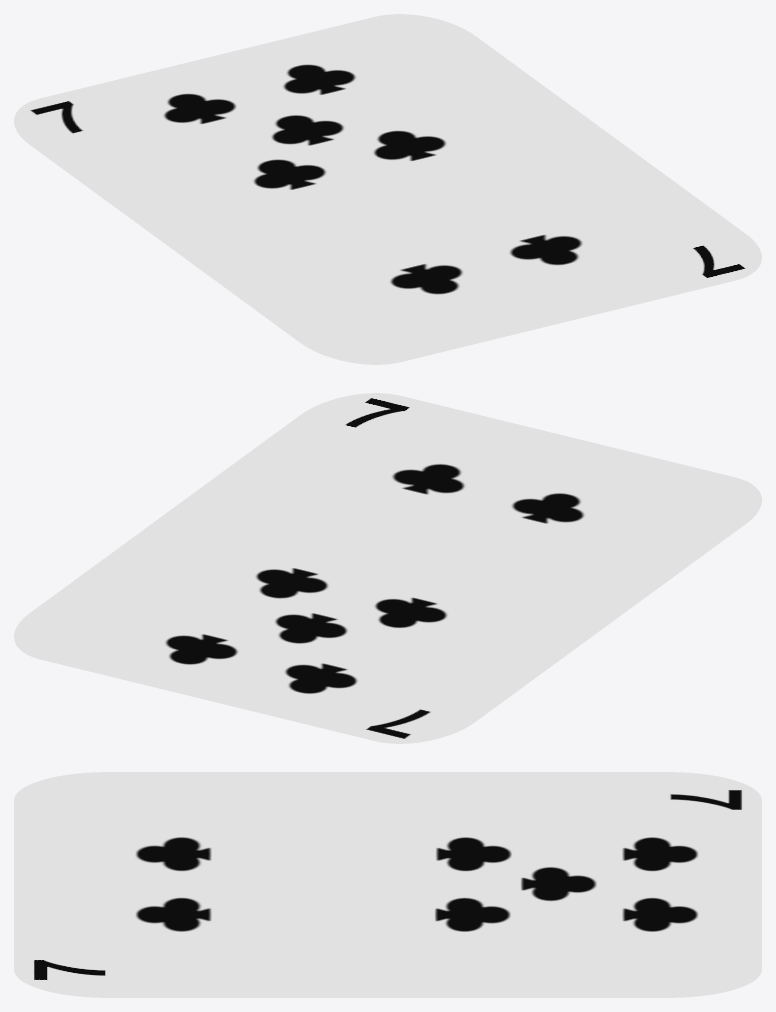
Rendered from Clubs7.fbx.
The picture shows the model from 3 angles, top to bottom: view 1: azimuth 30°, elevation 25°; view 2: azimuth 150°, elevation 25°; view 3: azimuth 270°, elevation 25°; orthographic projection. The views are drawn at different scales.
Parts seen in each view (by area): view 1: Plane.007; view 2: Plane.007; view 3: Plane.007.
Boxes of the visible parts, x1,y1,x2,y2 form: Plane.007: (14,14,761,364); Plane.007: (14,393,761,743); Plane.007: (14,772,761,997).
Size of the model in its own units: 500 by 0 by 700.
Materials: 1 (1 with a texture image).
